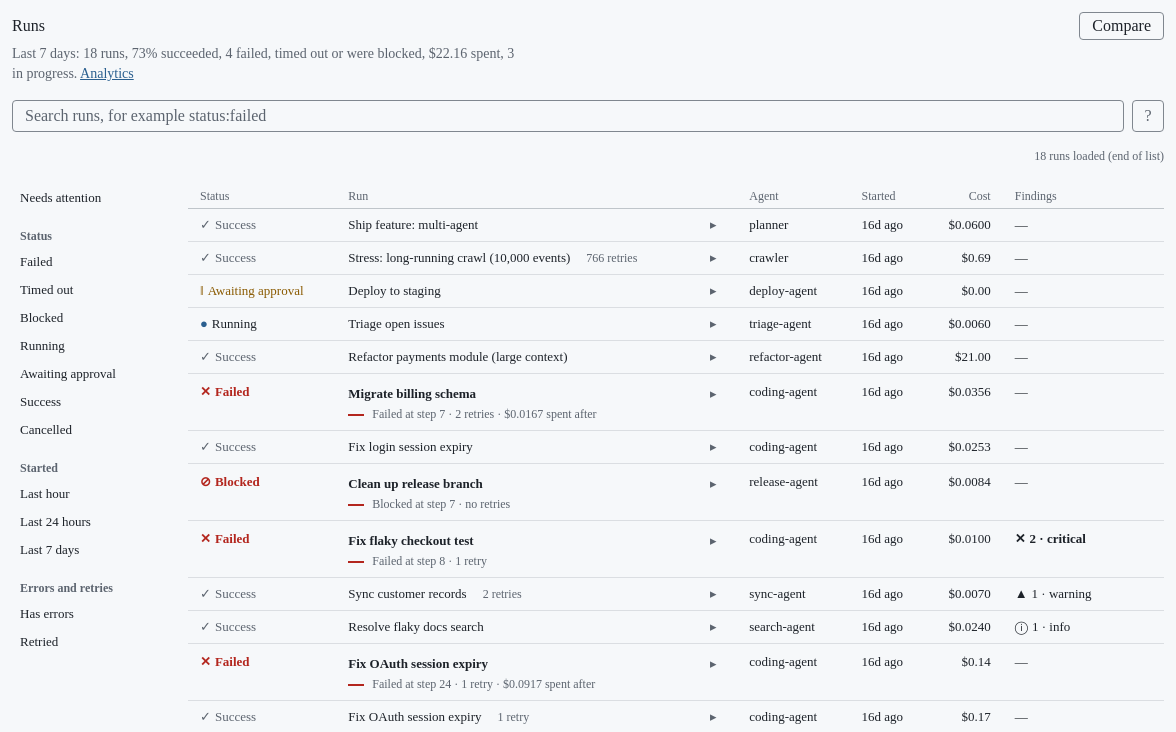
Test: the one field › a facet writes a chip and the URL, and removing the chip clears both
Click the button "Failed" at (92, 262), box [12, 248, 172, 276]
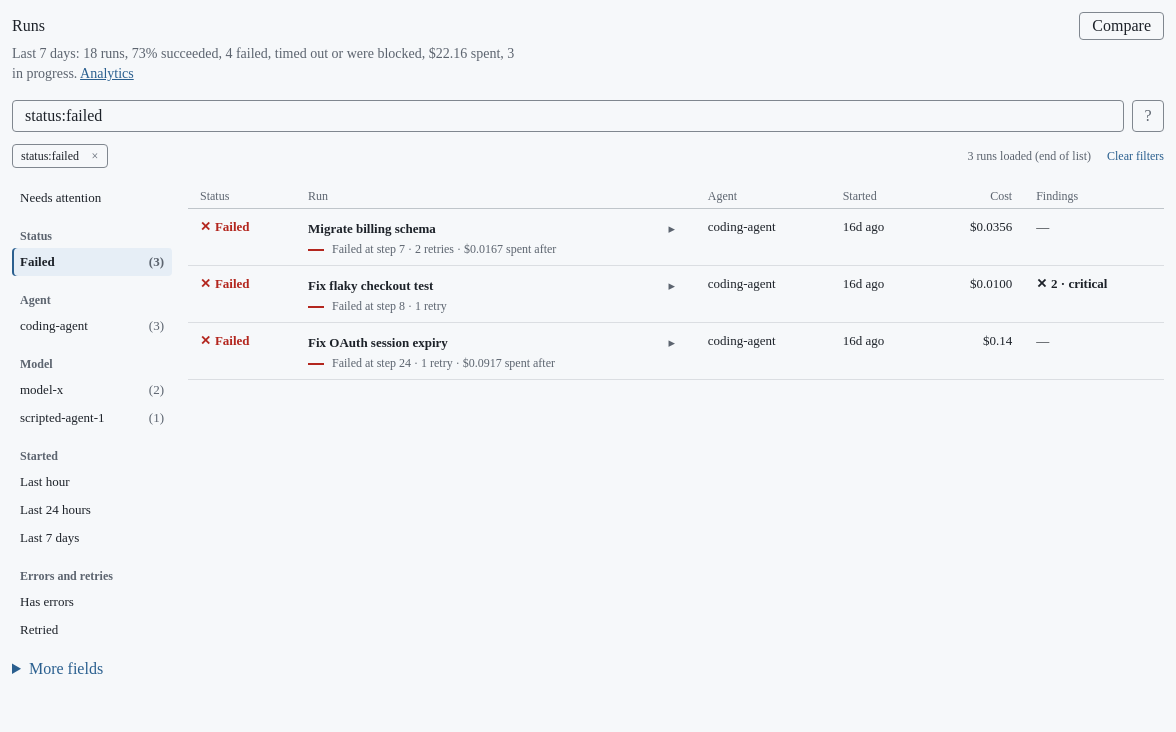
Click the button named "Remove status:failed" at (95, 156), box [83, 145, 107, 167]
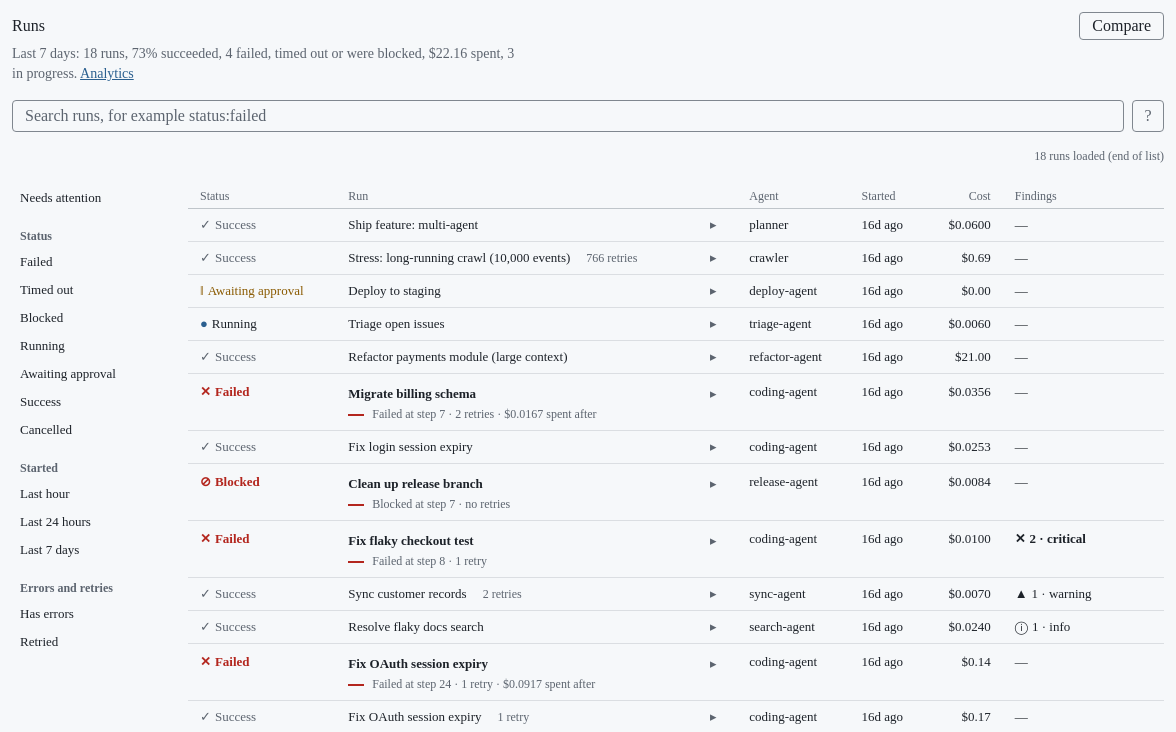
Expected: the search field labelled "Search runs" is empty, [12, 100, 1124, 132]
